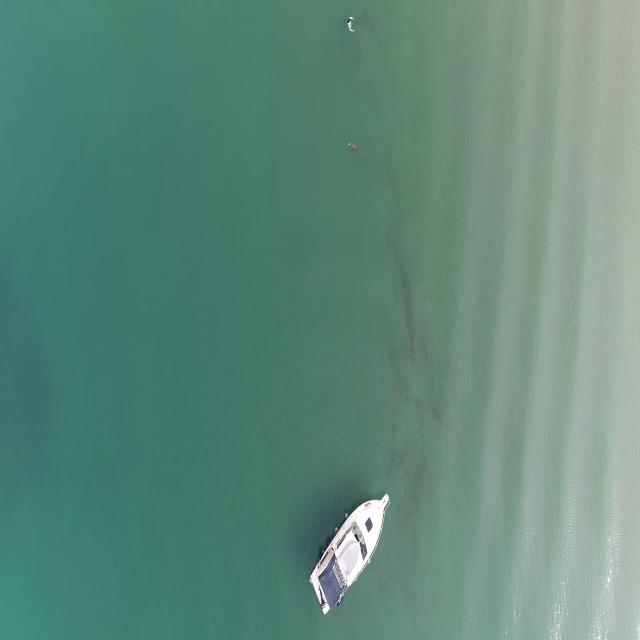boat: (312, 489, 391, 619)
person: (347, 13, 357, 35)
wood: (348, 140, 360, 154)
